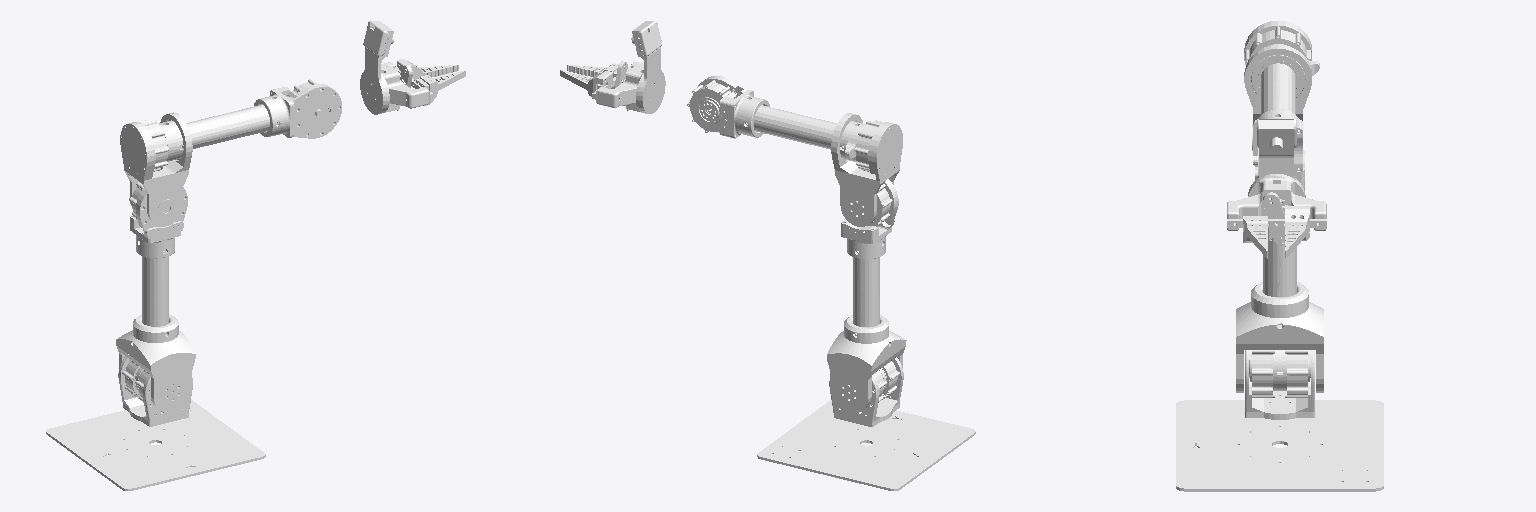
URDF robot description (Yummy_Robot):
<?xml version="1.0" encoding="utf-8"?>
<!-- This URDF was automatically created by SolidWorks to URDF Exporter! Originally created by Stephen Brawner (brawner@gmail.com) 
     Commit Version: 1.6.0-4-g7f85cfe  Build Version: 1.6.7995.38578
     For more information, please see http://wiki.ros.org/sw_urdf_exporter -->
<robot
  name="Yummy_Robot">
  <link
    name="base_link">
    <inertial>
      <origin
        xyz="2.8409901354327E-05 2.46544480867264E-05 0.002"
        rpy="0 0 0" />
      <mass
        value="0.247615715480692" />
      <inertia
        ixx="0.00129403189153011"
        ixy="9.67724143112491E-07"
        ixz="-4.51639540384776E-18"
        iyy="0.00129411626086441"
        iyz="2.80709350314184E-21"
        izz="0.0025874878438199" />
    </inertial>
    <visual>
      <origin
        xyz="0 0 0"
        rpy="0 0 0" />
      <geometry>
        <mesh
          filename="package://Yummy_Robot/meshes/base_link.STL" />
      </geometry>
      <material
        name="">
        <color
          rgba="1 1 1 1" />
      </material>
    </visual>
    <collision>
      <origin
        xyz="0 0 0"
        rpy="0 0 0" />
      <geometry>
        <mesh
          filename="package://Yummy_Robot/meshes/base_link.STL" />
      </geometry>
    </collision>
  </link>
  <link
    name="L0">
    <inertial>
      <origin
        xyz="1.28870232038765E-05 -2.87681424912568E-05 0.0249199361471398"
        rpy="0 0 0" />
      <mass
        value="0.278208173200074" />
      <inertia
        ixx="0.000256935622393261"
        ixy="-6.4303112432835E-10"
        ixz="-5.51880860497745E-10"
        iyy="0.000257749415643912"
        iyz="1.89890892602296E-08"
        izz="0.000407884496140122" />
    </inertial>
    <visual>
      <origin
        xyz="0 0 0"
        rpy="0 0 0" />
      <geometry>
        <mesh
          filename="package://Yummy_Robot/meshes/L0.STL" />
      </geometry>
      <material
        name="">
        <color
          rgba="1 1 1 1" />
      </material>
    </visual>
    <collision>
      <origin
        xyz="0 0 0"
        rpy="0 0 0" />
      <geometry>
        <mesh
          filename="package://Yummy_Robot/meshes/L0.STL" />
      </geometry>
    </collision>
  </link>
  <joint
    name="J0"
    type="fixed">
    <origin
      xyz="0 0 0"
      rpy="0 0 0" />
    <parent
      link="base_link" />
    <child
      link="L0" />
    <axis
      xyz="0 0 0" />
  </joint>
  <link
    name="L1">
    <inertial>
      <origin
        xyz="-0.000481548713902503 -2.71670005935754E-10 0.0461894632655837"
        rpy="0 0 0" />
      <mass
        value="0.34441629289114" />
      <inertia
        ixx="0.000273587077703993"
        ixy="7.18005323704943E-09"
        ixz="2.40798665316603E-06"
        iyy="0.000293042687475978"
        iyz="-6.02723353870862E-09"
        izz="0.00024631720146591" />
    </inertial>
    <visual>
      <origin
        xyz="0 0 0"
        rpy="0 0 0" />
      <geometry>
        <mesh
          filename="package://Yummy_Robot/meshes/L1.STL" />
      </geometry>
      <material
        name="">
        <color
          rgba="1 1 1 1" />
      </material>
    </visual>
    <collision>
      <origin
        xyz="0 0 0"
        rpy="0 0 0" />
      <geometry>
        <mesh
          filename="package://Yummy_Robot/meshes/L1.STL" />
      </geometry>
    </collision>
  </link>
  <joint
    name="J1"
    type="continuous">
    <origin
      xyz="0 0 0.054"
      rpy="0 0 0" />
    <parent
      link="L0" />
    <child
      link="L1" />
    <axis
      xyz="0 0 -1" />
  </joint>
  <link
    name="L2">
    <inertial>
      <origin
        xyz="0.147399422230386 -2.87945438928118E-05 0.000815648688291471"
        rpy="0 0 0" />
      <mass
        value="0.849556921256158" />
      <inertia
        ixx="0.000822493734654003"
        ixy="9.3757393037198E-07"
        ixz="-3.13865408042652E-05"
        iyy="0.00174411539434368"
        iyz="4.59604581258483E-07"
        izz="0.00154138146149914" />
    </inertial>
    <visual>
      <origin
        xyz="0 0 0"
        rpy="0 0 0" />
      <geometry>
        <mesh
          filename="package://Yummy_Robot/meshes/L2.STL" />
      </geometry>
      <material
        name="">
        <color
          rgba="1 1 1 1" />
      </material>
    </visual>
    <collision>
      <origin
        xyz="0 0 0"
        rpy="0 0 0" />
      <geometry>
        <mesh
          filename="package://Yummy_Robot/meshes/L2.STL" />
      </geometry>
    </collision>
  </link>
  <joint
    name="J2"
    type="revolute">
    <origin
      xyz="0 0 0.056"
      rpy="1.57079632679372 -1.5707963267949 0" />
    <parent
      link="L1" />
    <child
      link="L2" />
    <axis
      xyz="0 0 -1" />
    <limit
      lower="-1.57"
      upper="1.57"
      effort="0"
      velocity="0" />
  </joint>
  <link
    name="L3">
    <inertial>
      <origin
        xyz="0.00294653941692645 -0.0767000362272818 0.0140895648503954"
        rpy="0 0 0" />
      <mass
        value="0.349266386051237" />
      <inertia
        ixx="0.000494264187881577"
        ixy="3.5398575307068E-05"
        ixz="-1.70729303613319E-06"
        iyy="0.00029085794317086"
        iyz="1.50944953841497E-05"
        izz="0.000471123454372497" />
    </inertial>
    <visual>
      <origin
        xyz="0 0 0"
        rpy="0 0 0" />
      <geometry>
        <mesh
          filename="package://Yummy_Robot/meshes/L3.STL" />
      </geometry>
      <material
        name="">
        <color
          rgba="1 1 1 1" />
      </material>
    </visual>
    <collision>
      <origin
        xyz="0 0 0"
        rpy="0 0 0" />
      <geometry>
        <mesh
          filename="package://Yummy_Robot/meshes/L3.STL" />
      </geometry>
    </collision>
  </link>
  <joint
    name="J3"
    type="revolute">
    <origin
      xyz="0.3 0 -0.013"
      rpy="0 0 1.57079632679459" />
    <parent
      link="L2" />
    <child
      link="L3" />
    <axis
      xyz="0 0 1" />
    <limit
      lower="-1.57"
      upper="1.57"
      effort="0"
      velocity="0" />
  </joint>
  <link
    name="L4">
    <inertial>
      <origin
        xyz="-5.33590269513606E-05 0.0012610091835103 0.178585107532826"
        rpy="0 0 0" />
      <mass
        value="0.508934462712071" />
      <inertia
        ixx="0.00118659068710212"
        ixy="4.84953407986366E-07"
        ixz="9.41602772659357E-07"
        iyy="0.00123807229599775"
        iyz="-3.11940652631831E-05"
        izz="0.000215723313802968" />
    </inertial>
    <visual>
      <origin
        xyz="0 0 0"
        rpy="0 0 0" />
      <geometry>
        <mesh
          filename="package://Yummy_Robot/meshes/L4.STL" />
      </geometry>
      <material
        name="">
        <color
          rgba="1 1 1 1" />
      </material>
    </visual>
    <collision>
      <origin
        xyz="0 0 0"
        rpy="0 0 0" />
      <geometry>
        <mesh
          filename="package://Yummy_Robot/meshes/L4.STL" />
      </geometry>
    </collision>
  </link>
  <joint
    name="J4"
    type="revolute">
    <origin
      xyz="0 -0.0960000000000002 0.015"
      rpy="1.5707963267949 0 -1.5707963267949" />
    <parent
      link="L3" />
    <child
      link="L4" />
    <axis
      xyz="0 0 1" />
    <limit
      lower="-1.57"
      upper="1.57"
      effort="0"
      velocity="0" />
  </joint>
  <link
    name="L5">
    <inertial>
      <origin
        xyz="0.0554275582447695 -8.43102749019664E-05 -0.0123559901652481"
        rpy="0 0 0" />
      <mass
        value="0.199421539807047" />
      <inertia
        ixx="0.000154095694275757"
        ixy="1.94979485782236E-07"
        ixz="1.4766498691541E-05"
        iyy="0.000263063343244189"
        iyz="-3.30464015672368E-08"
        izz="0.000239047984325112" />
    </inertial>
    <visual>
      <origin
        xyz="0 0 0"
        rpy="0 0 0" />
      <geometry>
        <mesh
          filename="package://Yummy_Robot/meshes/L5.STL" />
      </geometry>
      <material
        name="">
        <color
          rgba="1 1 1 1" />
      </material>
    </visual>
    <collision>
      <origin
        xyz="0 0 0"
        rpy="0 0 0" />
      <geometry>
        <mesh
          filename="package://Yummy_Robot/meshes/L5.STL" />
      </geometry>
    </collision>
  </link>
  <joint
    name="J5"
    type="revolute">
    <origin
      xyz="0 -0.0129999999998806 0.270000000000008"
      rpy="1.5707963267949 -1.5707963267949 0" />
    <parent
      link="L4" />
    <child
      link="L5" />
    <axis
      xyz="0 0 1" />
    <limit
      lower="-1.57"
      upper="1.57"
      effort="0"
      velocity="0" />
  </joint>
  <link
    name="L6">
    <inertial>
      <origin
        xyz="2.00328110335213E-05 -0.0113350896878707 0.0266092056252895"
        rpy="0 0 0" />
      <mass
        value="0.186983003022658" />
      <inertia
        ixx="0.000124787922710441"
        ixy="6.45720649922763E-07"
        ixz="5.11912748065669E-09"
        iyy="0.000169620141646579"
        iyz="7.86562940534723E-06"
        izz="0.00022741222304094" />
    </inertial>
    <visual>
      <origin
        xyz="0 0 0"
        rpy="0 0 0" />
      <geometry>
        <mesh
          filename="package://Yummy_Robot/meshes/L6.STL" />
      </geometry>
      <material
        name="">
        <color
          rgba="1 1 1 1" />
      </material>
    </visual>
    <collision>
      <origin
        xyz="0 0 0"
        rpy="0 0 0" />
      <geometry>
        <mesh
          filename="package://Yummy_Robot/meshes/L6.STL" />
      </geometry>
    </collision>
  </link>
  <joint
    name="J6"
    type="continuous">
    <origin
      xyz="0.107 0 -0.0149999999999897"
      rpy="0 1.5707963267949 0" />
    <parent
      link="L5" />
    <child
      link="L6" />
    <axis
      xyz="0 0 1" />
    <limit
      lower="-1.57"
      upper="1.57"
      effort="0"
      velocity="0" />
  </joint>
  <link
    name="Lpicker1">
    <inertial>
      <origin
        xyz="0.0036107049840981 -0.012667844978679 0.000173926354598009"
        rpy="0 0 0" />
      <mass
        value="0.0268795740661677" />
      <inertia
        ixx="6.36542587659304E-06"
        ixy="9.23682773144026E-09"
        ixz="4.75911037020634E-07"
        iyy="6.15429668987293E-06"
        iyz="-7.20625834120107E-07"
        izz="3.42901137291843E-06" />
    </inertial>
    <visual>
      <origin
        xyz="0 0 0"
        rpy="0 0 0" />
      <geometry>
        <mesh
          filename="package://Yummy_Robot/meshes/Lpicker1.STL" />
      </geometry>
      <material
        name="">
        <color
          rgba="1 1 1 1" />
      </material>
    </visual>
    <collision>
      <origin
        xyz="0 0 0"
        rpy="0 0 0" />
      <geometry>
        <mesh
          filename="package://Yummy_Robot/meshes/Lpicker1.STL" />
      </geometry>
    </collision>
  </link>
  <joint
    name="Jpicker1"
    type="prismatic">
    <origin
      xyz="-0.010054 0.0004 0.091643"
      rpy="0 0 -1.5708" />
    <parent
      link="L6" />
    <child
      link="Lpicker1" />
    <axis
      xyz="0 -1 0" />
    <limit
      lower="-0.01"
      upper="0.02"
      effort="0"
      velocity="0" />
  </joint>
  <link
    name="Lpicker2">
    <inertial>
      <origin
        xyz="-0.00361070498406746 0.0126678449785079 0.00017392635466229"
        rpy="0 0 0" />
      <mass
        value="0.0268795740661677" />
      <inertia
        ixx="6.36542587659058E-06"
        ixy="9.236827732381E-09"
        ixz="-4.75911037023351E-07"
        iyy="6.15429668987296E-06"
        iyz="7.20625834120076E-07"
        izz="3.42901137292091E-06" />
    </inertial>
    <visual>
      <origin
        xyz="0 0 0"
        rpy="0 0 0" />
      <geometry>
        <mesh
          filename="package://Yummy_Robot/meshes/Lpicker2.STL" />
      </geometry>
      <material
        name="">
        <color
          rgba="1 1 1 1" />
      </material>
    </visual>
    <collision>
      <origin
        xyz="0 0 0"
        rpy="0 0 0" />
      <geometry>
        <mesh
          filename="package://Yummy_Robot/meshes/Lpicker2.STL" />
      </geometry>
    </collision>
  </link>
  <joint
    name="Jpicker2"
    type="prismatic">
    <origin
      xyz="0.009946 0.0006 0.091643"
      rpy="0 0 -1.5708" />
    <parent
      link="L6" />
    <child
      link="Lpicker2" />
    <axis
      xyz="0 -1 0" />
    <limit
      lower="-0.02"
      upper="0.01"
      effort="0"
      velocity="0" />
  </joint>
  <link
    name="camera">
    <inertial>
      <origin
        xyz="1.33597993778878E-13 -0.0848133325268019 0.0210131141167913"
        rpy="0 0 0" />
      <mass
        value="0.0106507188014664" />
      <inertia
        ixx="1.36941163336407E-06"
        ixy="-5.54437751150509E-22"
        ixz="-8.64555073299252E-22"
        iyy="1.42474418080902E-06"
        iyz="2.08166196695518E-07"
        izz="2.15255225217963E-06" />
    </inertial>
    <visual>
      <origin
        xyz="0 0 0"
        rpy="0 0 0" />
      <geometry>
        <mesh
          filename="package://Yummy_Robot/meshes/camera.STL" />
      </geometry>
      <material
        name="">
        <color
          rgba="1 1 1 1" />
      </material>
    </visual>
    <collision>
      <origin
        xyz="0 0 0"
        rpy="0 0 0" />
      <geometry>
        <mesh
          filename="package://Yummy_Robot/meshes/camera.STL" />
      </geometry>
    </collision>
  </link>
  <joint
    name="Jcamera"
    type="fixed">
    <origin
      xyz="0 0 0"
      rpy="0 0 0" />
    <parent
      link="L6" />
    <child
      link="camera" />
    <axis
      xyz="0 0 0" />
  </joint>
</robot>

--- Facts derived from the render (not from the file) ---
3 views of the same robot in one strip: view 1: azimuth 30°, elevation 25°; view 2: azimuth 150°, elevation 25°; view 3: azimuth 270°, elevation 25° (orthographic).
Robot: Yummy_Robot — 11 links, 10 joints (4 revolute, 2 continuous, 2 prismatic, 2 fixed); root link base_link; default pose: every joint at zero.
Links seen in each view (by area): view 1: base_link, L2, L4, L3, L6, L1, Lpicker2, Lpicker1; view 2: base_link, L2, L3, L4, L6, L1, Lpicker1; view 3: base_link, L2, L6, L1, L3, L4, Lpicker1, Lpicker2.
Boxes of the visible links, x1,y1,x2,y2 form: base_link: [46, 399, 265, 490]; L2: [116, 182, 195, 412]; L4: [186, 79, 341, 148]; L3: [120, 112, 192, 226]; L6: [360, 20, 433, 114]; L1: [118, 356, 192, 426]; Lpicker2: [416, 70, 465, 105]; Lpicker1: [397, 59, 458, 80]; base_link: [757, 400, 975, 490]; L2: [827, 179, 906, 412]; L3: [831, 113, 902, 226]; L4: [687, 76, 836, 149]; L6: [592, 21, 665, 113]; L1: [829, 357, 903, 426]; Lpicker1: [560, 70, 612, 96]; base_link: [1176, 400, 1383, 491]; L2: [1236, 151, 1323, 392]; L6: [1227, 119, 1326, 245]; L1: [1245, 350, 1314, 419]; L3: [1244, 20, 1319, 150]; L4: [1253, 63, 1302, 175]; Lpicker1: [1285, 206, 1309, 257]; Lpicker2: [1243, 216, 1267, 258].
Bounding box of the posed robot: 0.6615 × 0.25 × 0.6156 m (x, y, z).
Meshes: 11 distinct files referenced, 9 mesh visuals loaded (9 binary STL); not drawn: 2 (reference not matched to a file when rendering).
